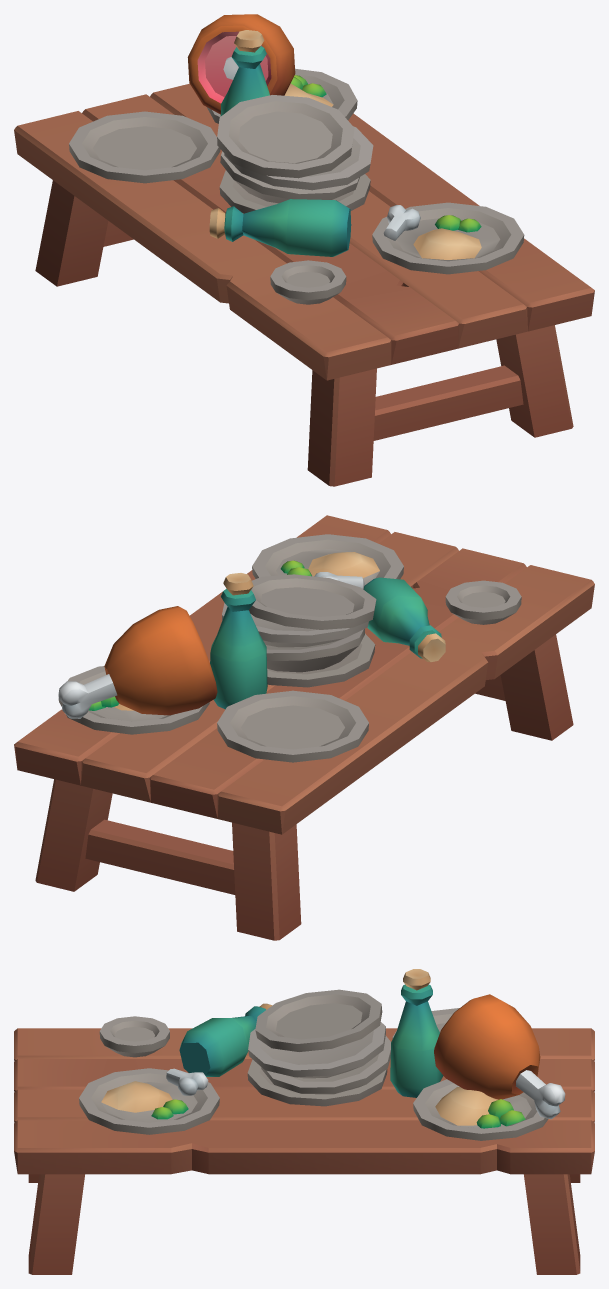
File: dungeon-table.glb
3 renders of one model, top to bottom at view 1: azimuth 30°, elevation 25°; view 2: azimuth 150°, elevation 25°; view 3: azimuth 270°, elevation 25°, orthographic. The views are drawn at different scales.
Parts seen in each view (by area): view 1: dungeon-table; view 2: dungeon-table; view 3: dungeon-table.
Boxes of the visible parts, box(x1,y1,x2,y2) form: dungeon-table: box(14, 14, 594, 486); dungeon-table: box(14, 515, 594, 940); dungeon-table: box(14, 969, 594, 1274).
Size of the model in its own units: 1.54 by 1.41 by 3.
1 material, 1 textured.
